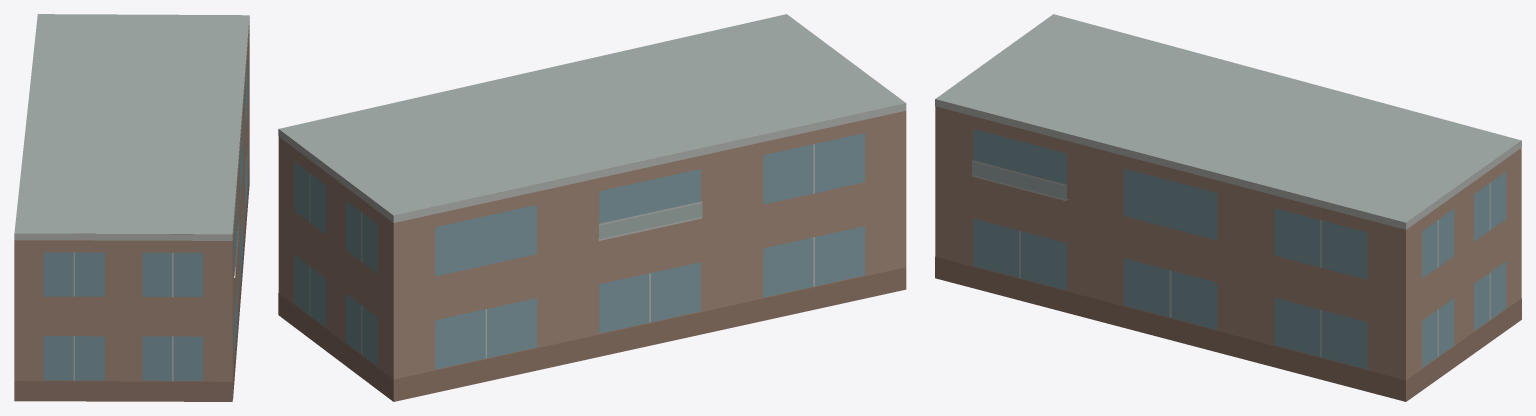
The model's file is survey-upis-32890682.glb.
3 renders of one model, left to right at view 1: azimuth 30°, elevation 25°; view 2: azimuth 150°, elevation 25°; view 3: azimuth 270°, elevation 25°, orthographic. The views are drawn at different scales.
Parts seen in each view (by area): view 1: survey-upis-32890682.tmp; view 2: survey-upis-32890682.tmp; view 3: survey-upis-32890682.tmp.
Part boxes in pixels (x1=…): survey-upis-32890682.tmp: x1=14, y1=14, x2=249, y2=401; survey-upis-32890682.tmp: x1=278, y1=14, x2=906, y2=401; survey-upis-32890682.tmp: x1=935, y1=14, x2=1521, y2=401.
Bounding box in the file's own units: 15.25 × 6.1 × 18.11.
